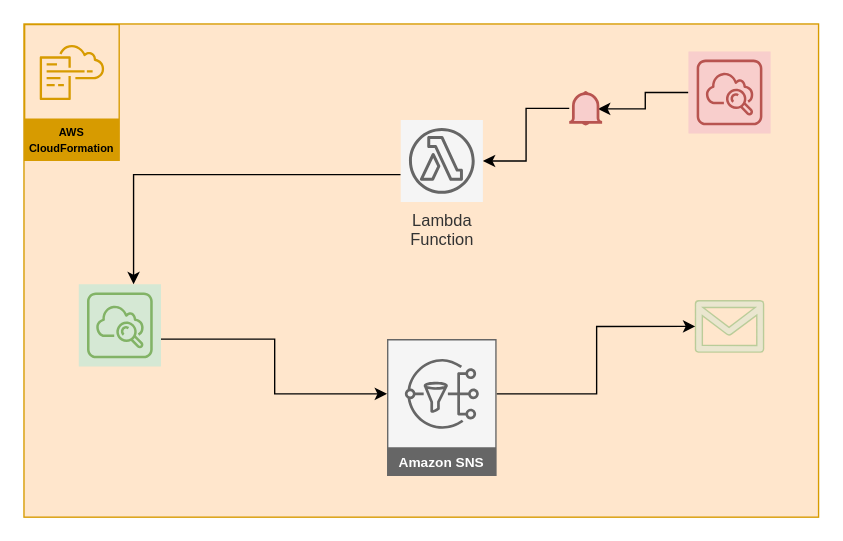
This 843x541 diagram has some shape labels left out. Here are the shapes that lost their labels. From the top down, the box of each, then its label:
(687, 50, 771, 134): Instance Stopped
(77, 283, 161, 366): Instance Running and Monitored
